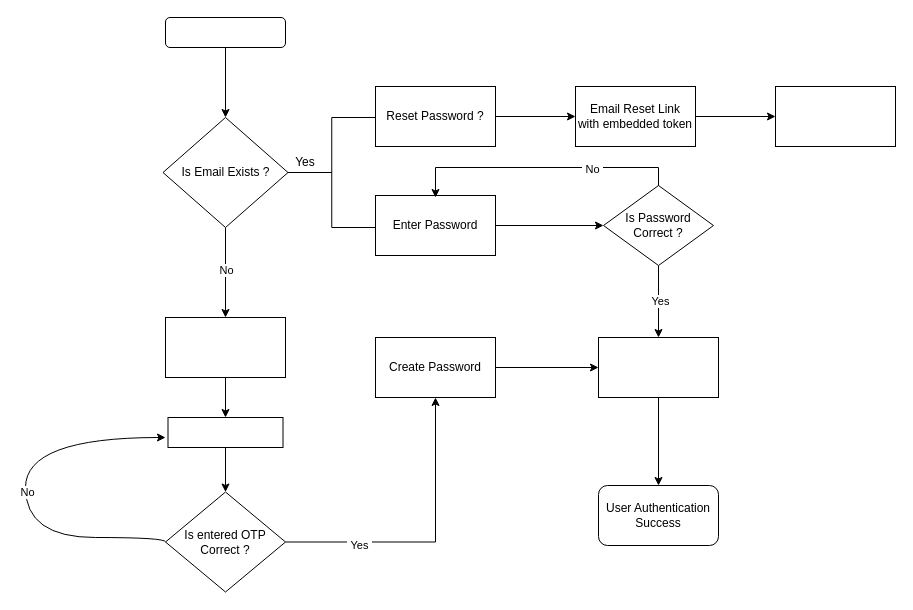
The diagram is 913 pixels wide and 610 high, and some of its shapes have lost their labels. Here are the shapes that lost their labels. From the top down, the centre of each, then its label:
the point at 225,32: Enter Email
the point at 835,116: Enter New Password and Confirm Password
the point at 225,347: Sent OTP for verification ?
the point at 658,367: Generate Authentication Token
the point at 225,432: Entered OTP
